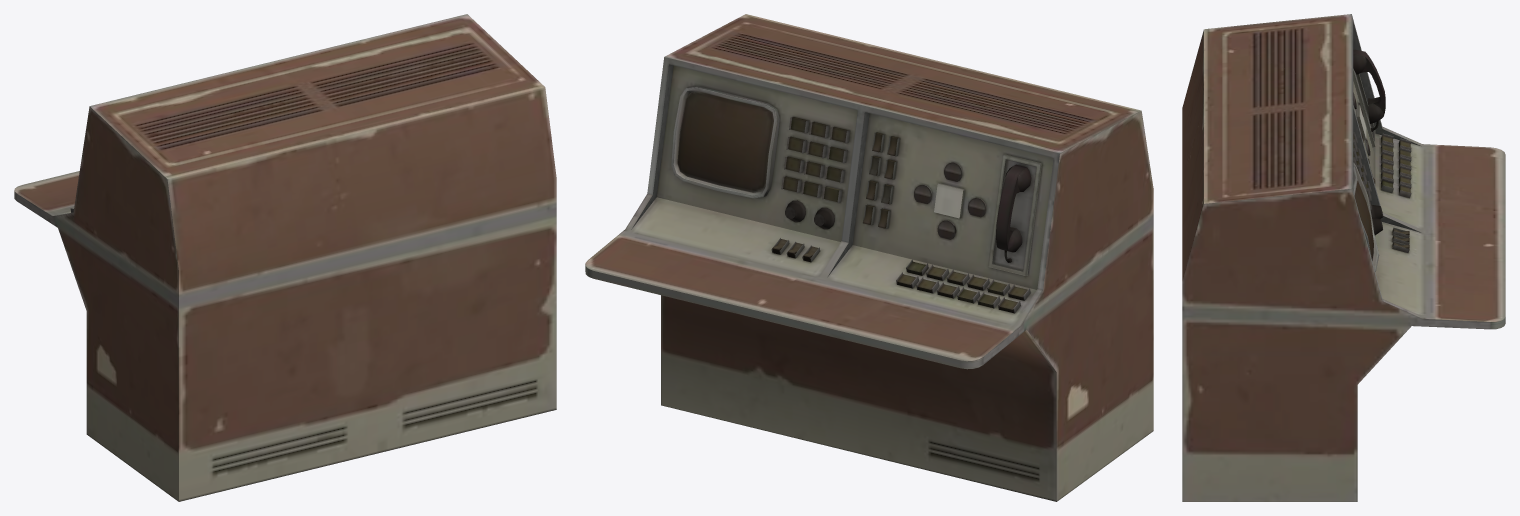
3 renders of one model, left to right at view 1: azimuth 30°, elevation 25°; view 2: azimuth 150°, elevation 25°; view 3: azimuth 270°, elevation 25°, orthographic. The views are drawn at different scales.
Visible parts, largest first — view 1: body0_model0_lod0_mesh0; view 2: body0_model0_lod0_mesh0; view 3: body0_model0_lod0_mesh0.
Part boxes in pixels (x1,y1,x2,y2): body0_model0_lod0_mesh0: [14, 14, 556, 501]; body0_model0_lod0_mesh0: [585, 14, 1153, 501]; body0_model0_lod0_mesh0: [1182, 14, 1505, 501].
Size of the model in its own units: 80 by 66.86 by 62.51.
1 material, 1 textured.
